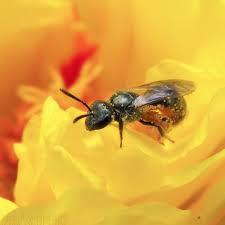Lasioglossum: (54, 67, 192, 148)
